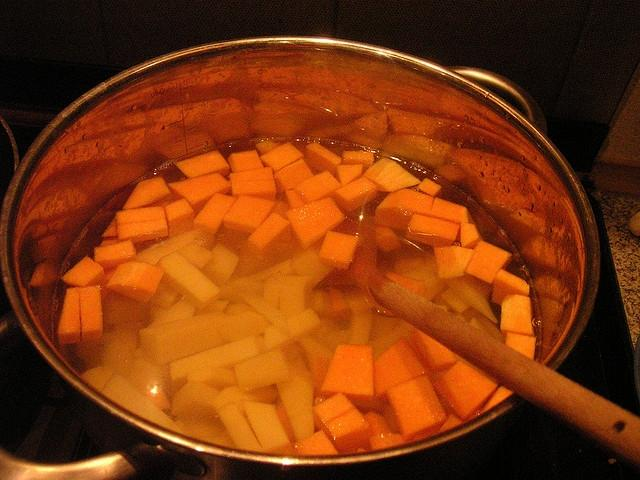carrot: (386, 375, 447, 441), (432, 360, 498, 420), (374, 337, 429, 404), (318, 344, 376, 402), (285, 196, 346, 250), (167, 173, 231, 214), (374, 188, 434, 230), (106, 261, 165, 303), (324, 407, 373, 454), (408, 328, 457, 374), (222, 194, 277, 234), (464, 239, 512, 284), (362, 158, 422, 192), (115, 206, 168, 244), (193, 193, 238, 235), (247, 213, 290, 254), (312, 392, 356, 432), (406, 214, 460, 246), (122, 177, 172, 210), (318, 230, 358, 270), (295, 170, 342, 204), (334, 176, 378, 212), (175, 150, 230, 178), (273, 158, 315, 194), (260, 142, 305, 175), (79, 285, 105, 342), (491, 268, 530, 306), (500, 294, 534, 337), (62, 255, 106, 287), (304, 140, 342, 177), (57, 288, 81, 345), (434, 245, 474, 278), (163, 198, 195, 238), (94, 240, 137, 269), (294, 431, 340, 456), (429, 198, 468, 224), (227, 149, 264, 173), (505, 332, 536, 360), (340, 150, 374, 175), (482, 386, 514, 412), (228, 168, 274, 184), (380, 402, 402, 434), (332, 163, 362, 186), (460, 222, 480, 250), (417, 178, 441, 196), (99, 235, 119, 247)
potato: (170, 334, 268, 393), (101, 371, 188, 437), (139, 311, 227, 366), (155, 251, 222, 309), (240, 398, 298, 456), (76, 328, 138, 374), (134, 226, 204, 266), (233, 348, 290, 393), (264, 306, 321, 350), (276, 376, 314, 442), (447, 274, 498, 323), (126, 358, 172, 412), (290, 234, 336, 288), (217, 402, 265, 452), (212, 386, 278, 419), (214, 308, 274, 344), (362, 157, 422, 192), (298, 334, 334, 386), (175, 419, 235, 449), (200, 243, 240, 288), (370, 322, 414, 362), (236, 292, 286, 325), (401, 265, 444, 301), (148, 296, 196, 328), (278, 276, 308, 318), (187, 366, 239, 390), (103, 298, 149, 324), (368, 312, 404, 344), (248, 258, 292, 281), (78, 366, 115, 392), (147, 280, 179, 309), (178, 244, 215, 269), (343, 286, 374, 314), (348, 308, 372, 344), (440, 287, 472, 313), (321, 330, 348, 354), (192, 299, 228, 317), (394, 256, 425, 274), (223, 302, 254, 317), (311, 289, 325, 320), (262, 283, 278, 310), (468, 318, 491, 336), (290, 356, 312, 374), (219, 284, 239, 302), (314, 395, 327, 406), (131, 348, 143, 359)
